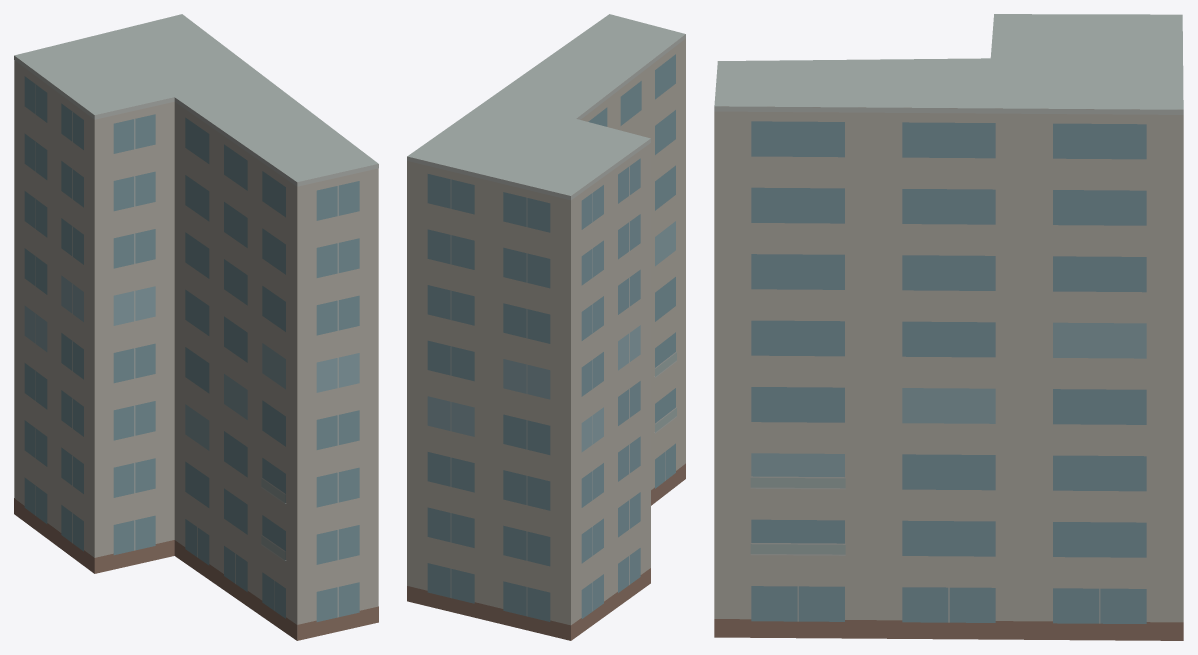
File: survey-upis-32926969.glb
3 views of the same model, side by side, from view 1: azimuth 30°, elevation 25°; view 2: azimuth 150°, elevation 25°; view 3: azimuth 270°, elevation 25° (orthographic). The views are drawn at different scales.
Visible parts, largest first — view 1: survey-upis-32926969.tmp; view 2: survey-upis-32926969.tmp; view 3: survey-upis-32926969.tmp.
Part boxes in pixels (box(x1,y1,x2,y2)): survey-upis-32926969.tmp: box(14, 14, 378, 640); survey-upis-32926969.tmp: box(407, 14, 685, 640); survey-upis-32926969.tmp: box(714, 14, 1183, 640).
Bounding box in the file's own units: 9.6 × 24.8 × 19.87.
